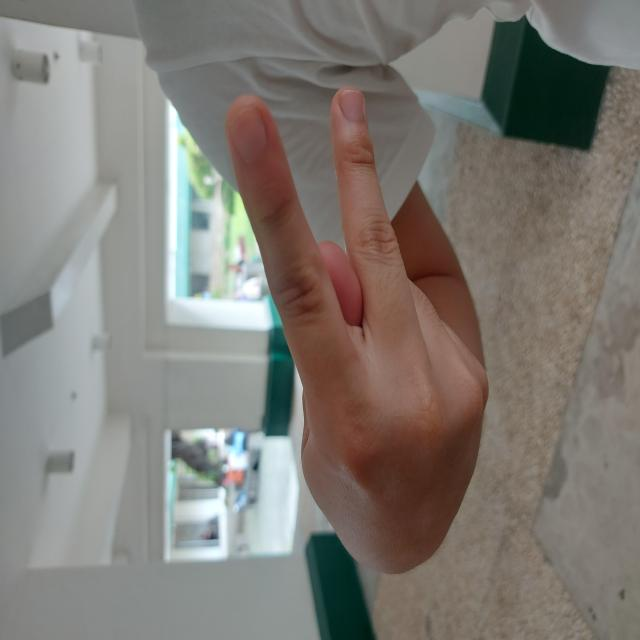K: (63, 223, 559, 490)
